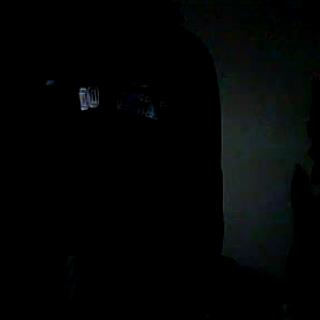Blue Sweatpants: (65, 257, 198, 320)
Waterloo Hoodie: (42, 5, 220, 261)
